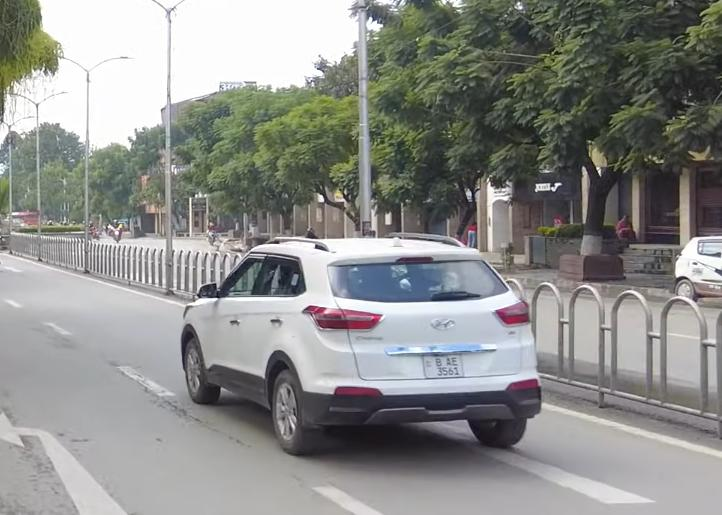car: (157, 241, 556, 451)
taxi: (671, 234, 722, 303)
